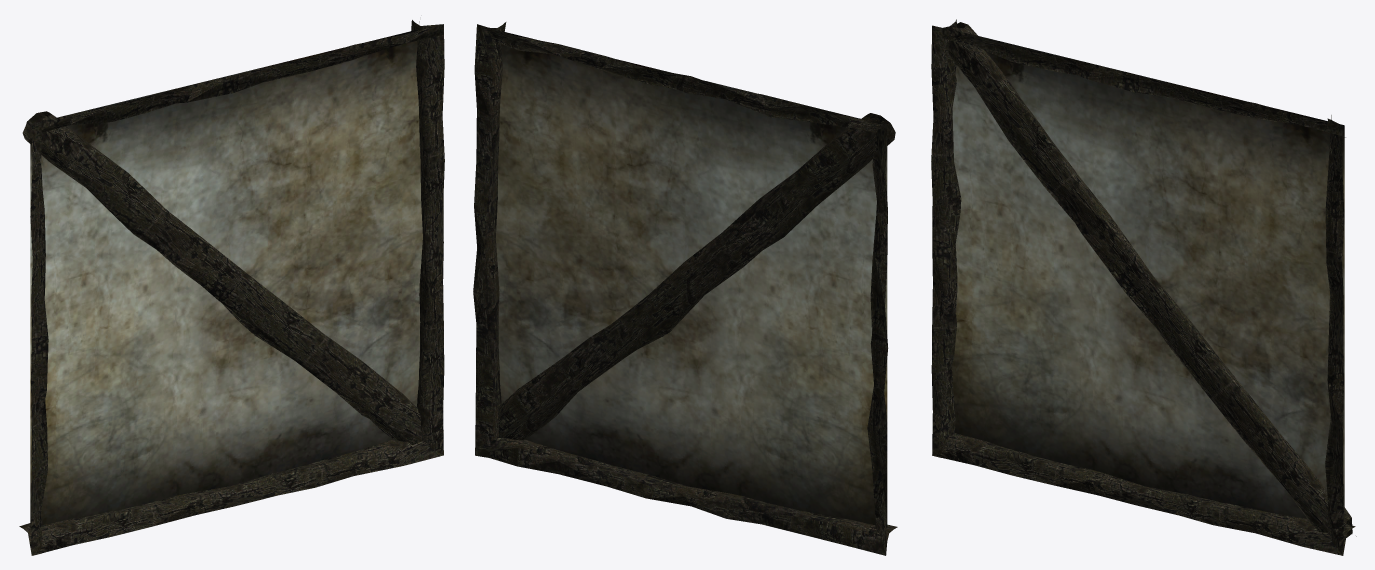
Rendered from default_extension02.dae.
The picture shows the model from 3 angles, left to right: view 1: azimuth 30°, elevation 25°; view 2: azimuth 150°, elevation 25°; view 3: azimuth 330°, elevation 25°; orthographic projection.
Visible parts, largest first — view 1: pPlane1, polySurface22; view 2: pPlane1, polySurface22; view 3: pPlane1, polySurface22.
Boxes of the visible parts, x1,y1,x2,y2 form: pPlane1: [30, 30, 422, 527]; polySurface22: [19, 20, 444, 555]; pPlane1: [496, 31, 887, 527]; polySurface22: [473, 22, 897, 555]; pPlane1: [952, 34, 1344, 518]; polySurface22: [931, 19, 1356, 555].
Size of the model in its own units: 4 by 4 by 0.328.
